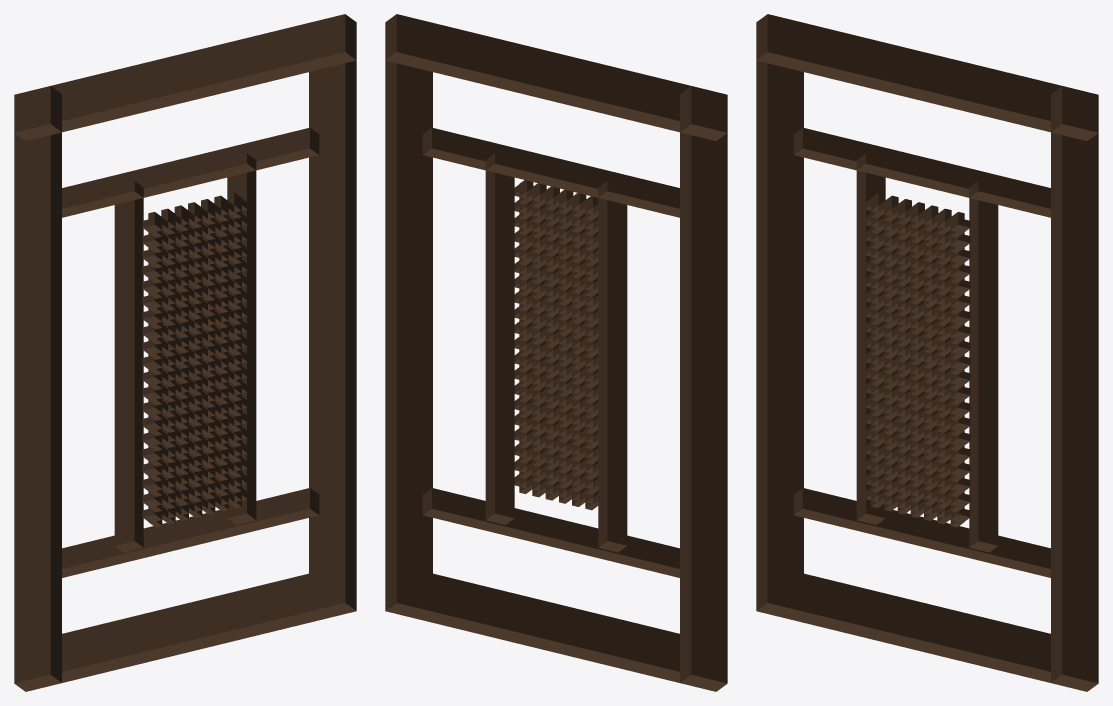
Rendered from mashrabiya.glb.
3 views of the same model, side by side, from view 1: azimuth 30°, elevation 25°; view 2: azimuth 150°, elevation 25°; view 3: azimuth 330°, elevation 25° (orthographic).
Size of the model in its own units: 1 by 1.7 by 0.1.
1 material, 1 textured.
